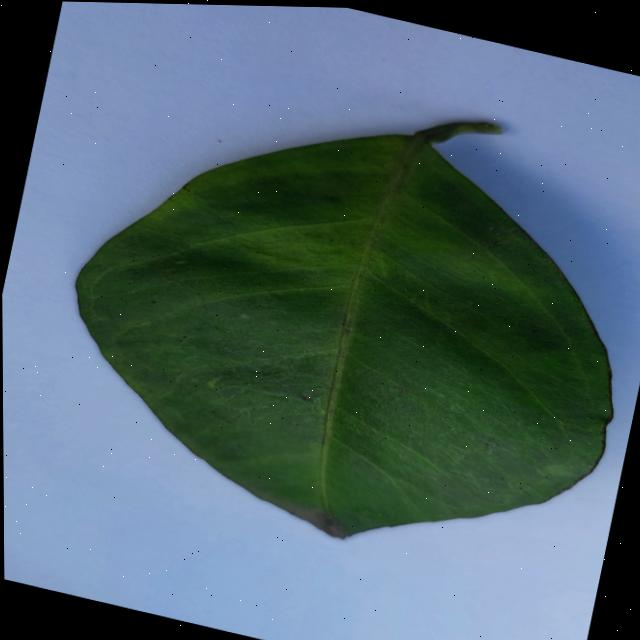greening: (76, 122, 608, 536)
